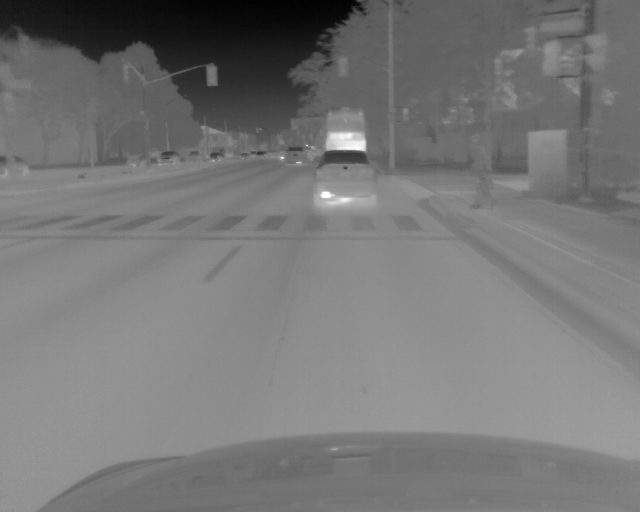car: (313, 150, 378, 209), (324, 107, 366, 152), (1, 152, 30, 179), (125, 153, 153, 171), (284, 145, 304, 165), (157, 151, 181, 167), (304, 146, 316, 163), (209, 152, 223, 164), (238, 151, 249, 161), (256, 149, 266, 158)
people: (469, 132, 493, 208)
